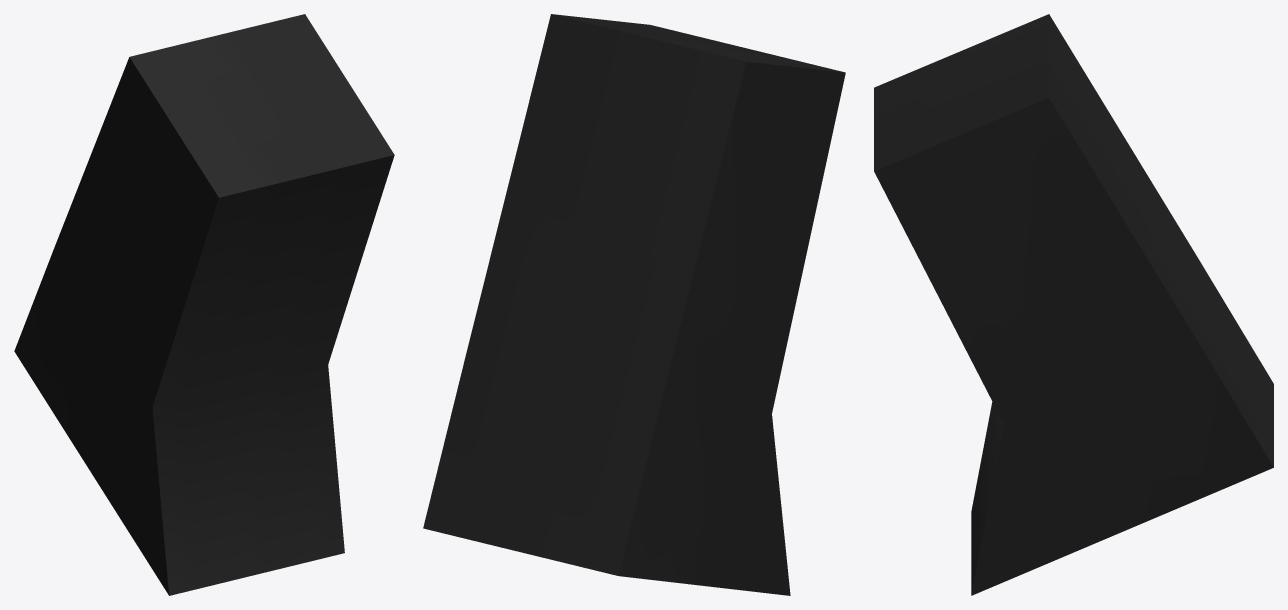
Rendered from TriggerC_mesh.fbx.
The picture shows the model from 3 angles, left to right: view 1: azimuth 30°, elevation 25°; view 2: azimuth 150°, elevation 25°; view 3: azimuth 270°, elevation 25°; orthographic projection. The views are drawn at different scales.
Visible parts, largest first — view 1: TriggerC_mesh; view 2: TriggerC_mesh; view 3: TriggerC_mesh.
Boxes of the visible parts, bbox=[...] form: TriggerC_mesh: bbox=[14, 14, 394, 595]; TriggerC_mesh: bbox=[423, 14, 845, 595]; TriggerC_mesh: bbox=[874, 14, 1273, 595].
Bounding box in the file's own units: 1.3 × 3.61 × 2.62.
